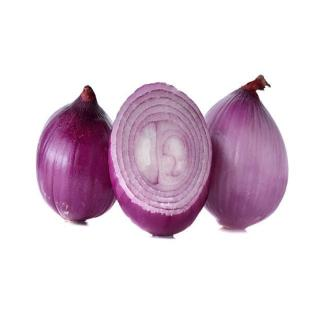Bawang Merah: (203, 75, 293, 235), (35, 84, 121, 228)
